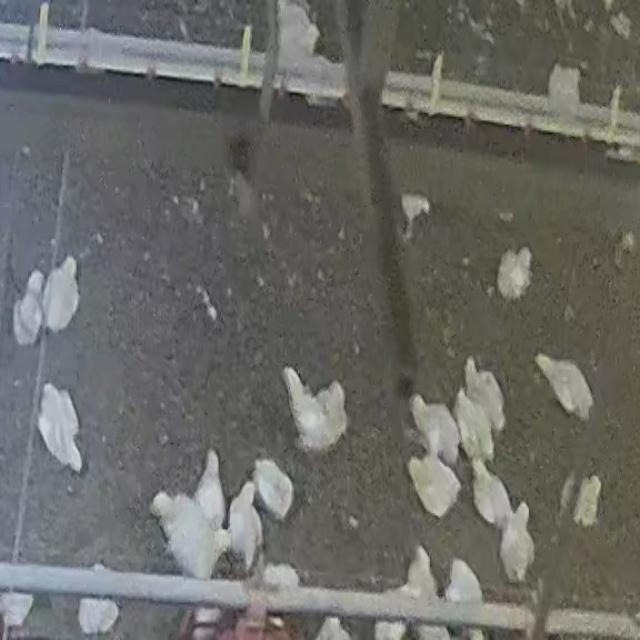chicken: (34, 374, 94, 474), (536, 347, 600, 419), (408, 392, 461, 470), (407, 450, 462, 519), (280, 361, 321, 450), (170, 524, 232, 579), (453, 384, 495, 464), (228, 481, 264, 571), (40, 256, 81, 334), (467, 358, 507, 437), (499, 501, 535, 583), (253, 462, 300, 522), (150, 491, 214, 535), (497, 240, 540, 301), (196, 447, 227, 531), (13, 271, 46, 346), (469, 458, 505, 524), (314, 382, 348, 451), (463, 355, 481, 398)
